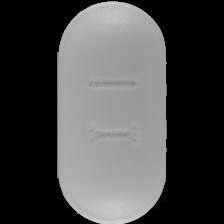42291-629: (0, 0, 224, 224)
